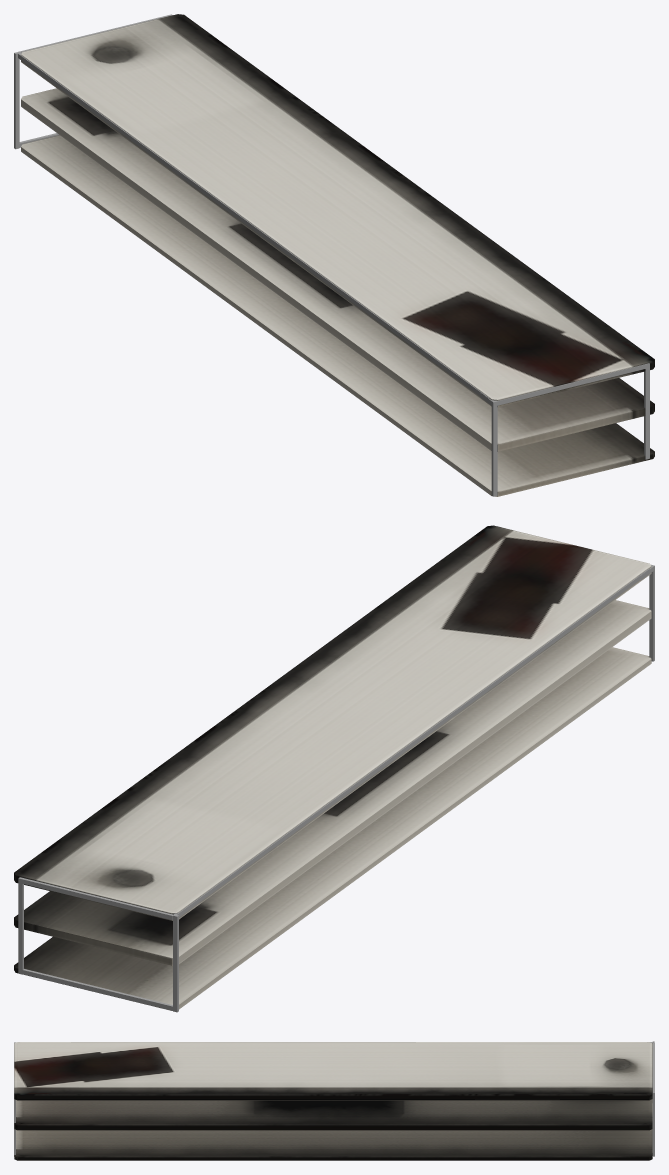
File: TvUnitSet1.fbx
3 renders of one model, top to bottom at view 1: azimuth 30°, elevation 25°; view 2: azimuth 150°, elevation 25°; view 3: azimuth 270°, elevation 25°, orthographic. The views are drawn at different scales.
Parts seen in each view (by area): view 1: TvUnitSet1_Wood, TvUnitSet1_Metal; view 2: TvUnitSet1_Wood, TvUnitSet1_Metal; view 3: TvUnitSet1_Wood, TvUnitSet1_Metal.
Part boxes in pixels (box(x1,y1,x2,y2)): TvUnitSet1_Wood: box(21, 14, 654, 496); TvUnitSet1_Metal: box(14, 14, 649, 496); TvUnitSet1_Wood: box(14, 525, 651, 1010); TvUnitSet1_Metal: box(18, 564, 654, 1012); TvUnitSet1_Wood: box(14, 1042, 652, 1160); TvUnitSet1_Metal: box(14, 1041, 654, 1156).
Bounding box in the file's own units: 56.3 × 31.44 × 280.
